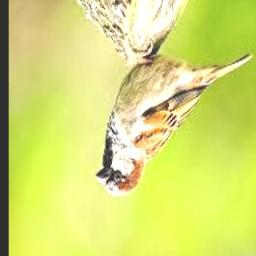Sparrow: (95, 40, 253, 198)
